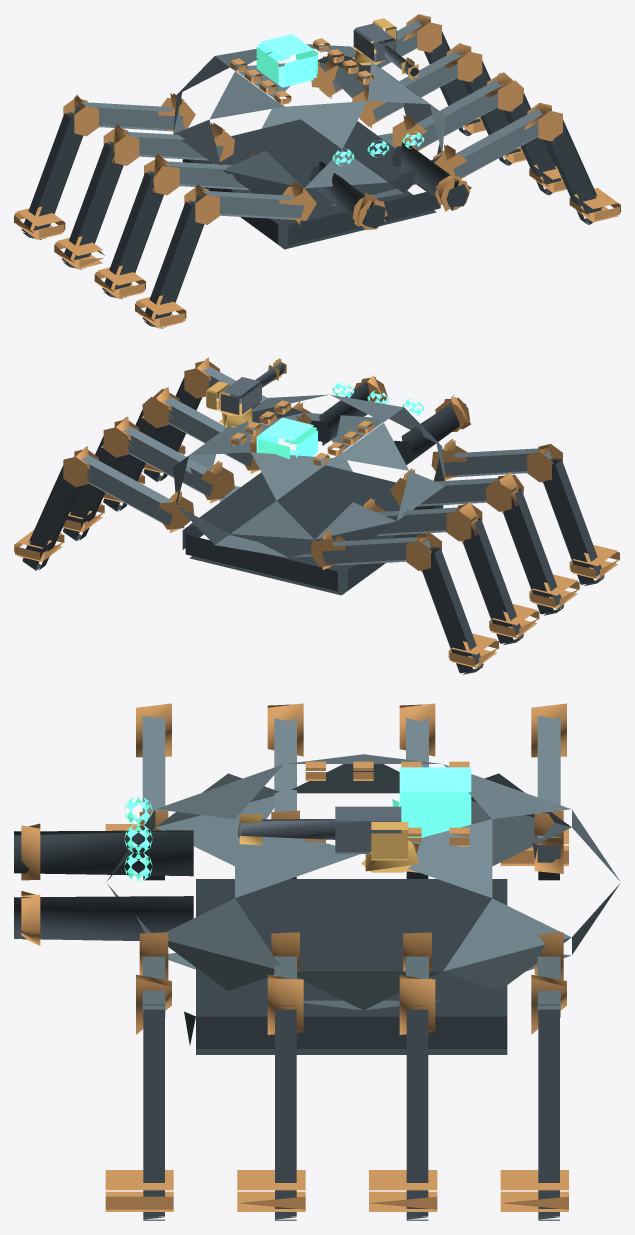
File: boss-spider.glb
3 views of the same model, one above another, from view 1: azimuth 30°, elevation 25°; view 2: azimuth 150°, elevation 25°; view 3: azimuth 270°, elevation 25° (orthographic). The views are drawn at different scales.
Visible parts, largest first — view 1: Segmented carapace, Underbody, Forward plasma gun, Lower strut.006, Lower strut, Lower strut.004, Lower strut.002, Hip servo, Barrel ring, Core, Hip servo.006, Hip servo.004 (+20 smaller); view 2: Segmented carapace, Underbody, Forward plasma gun, Lower strut.006, Lower strut, Lower strut.002, Lower strut.004, Hip servo.006, Upper leg.007, Hip servo, Barrel ring, Hip servo.007 (+19 smaller); view 3: Segmented carapace, Underbody, Forward plasma gun, Hip servo.005, Hip servo.003, Core, Lower strut.005, Hip servo.001, Lower strut.007, Lower strut.003, Lower strut.001, Auxiliary receiver (+14 smaller).
Boxes of the visible parts, <box> form: Segmented carapace: <box>173,44,445,206</box>; Underbody: <box>182,119,440,249</box>; Forward plasma gun: <box>309,142,468,228</box>; Lower strut.006: <box>21,111,82,240</box>; Lower strut: <box>142,200,204,328</box>; Lower strut.004: <box>62,141,123,269</box>; Lower strut.002: <box>102,171,163,299</box>; Hip servo: <box>135,182,316,328</box>; Barrel ring: <box>230,38,471,229</box>; Core: <box>256,34,317,87</box>; Hip servo.006: <box>14,93,195,239</box>; Hip servo.004: <box>54,122,234,269</box>; Segmented carapace: <box>173,394,444,557</box>; Underbody: <box>182,465,443,595</box>; Forward plasma gun: <box>310,377,466,464</box>; Lower strut.006: <box>422,546,483,674</box>; Lower strut: <box>543,458,604,585</box>; Lower strut.002: <box>503,487,564,615</box>; Lower strut.004: <box>463,517,523,645</box>; Hip servo.006: <box>310,530,499,667</box>; Upper leg.007: <box>81,455,181,525</box>; Hip servo: <box>431,438,620,579</box>; Barrel ring: <box>230,375,470,465</box>; Hip servo.007: <box>14,446,194,561</box>; Segmented carapace: <box>107,754,619,1010</box>; Underbody: <box>184,879,507,1054</box>; Forward plasma gun: <box>14,830,193,940</box>; Hip servo.005: <box>369,932,437,1211</box>; Hip servo.003: <box>237,932,305,1211</box>; Core: <box>392,767,471,837</box>; Lower strut.005: <box>406,1004,428,1220</box>; Hip servo.001: <box>105,932,173,1211</box>; Lower strut.007: <box>538,1004,559,1220</box>; Lower strut.003: <box>275,1004,296,1220</box>; Lower strut.001: <box>143,1004,164,1220</box>; Auxiliary receiver: <box>240,806,401,853</box>.
Size of the model in its own units: 7.32 by 2.67 by 5.07.
